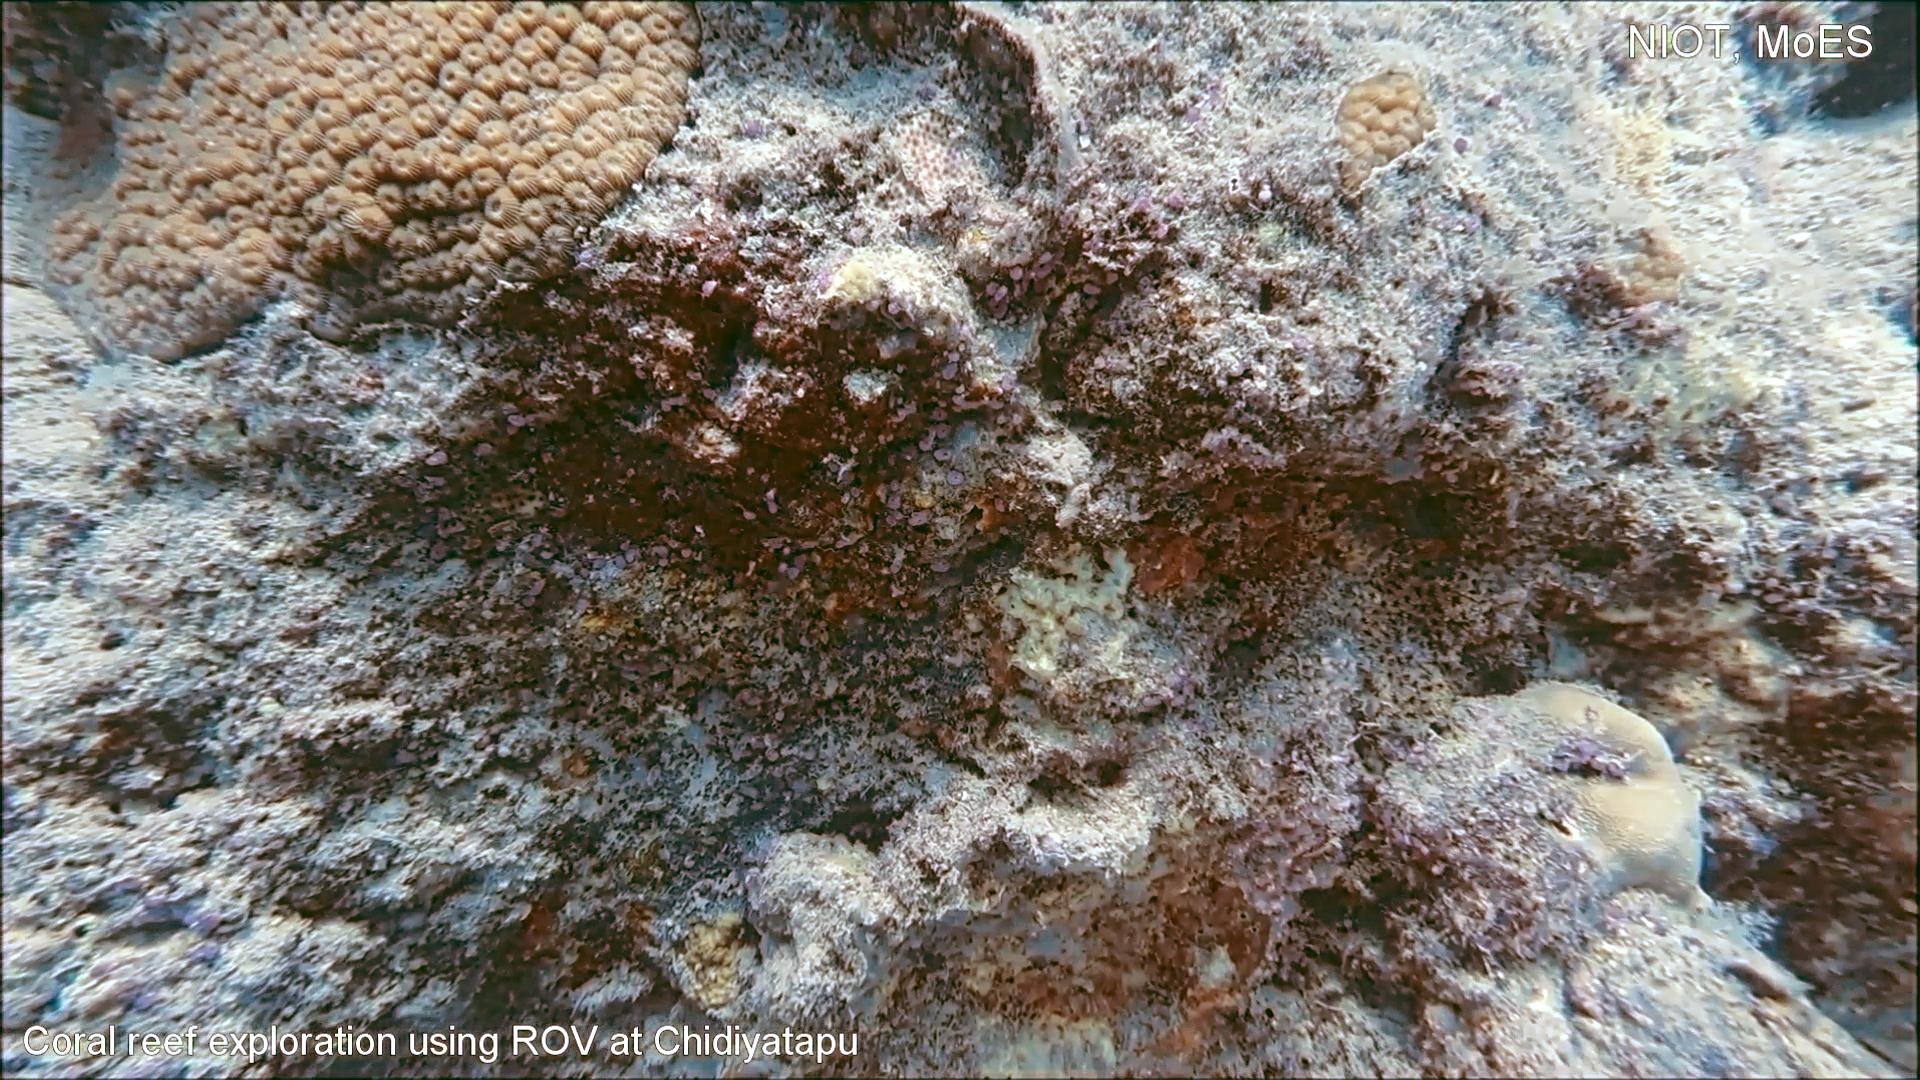Montastraea: (36, 0, 712, 371), (1324, 58, 1445, 210)
